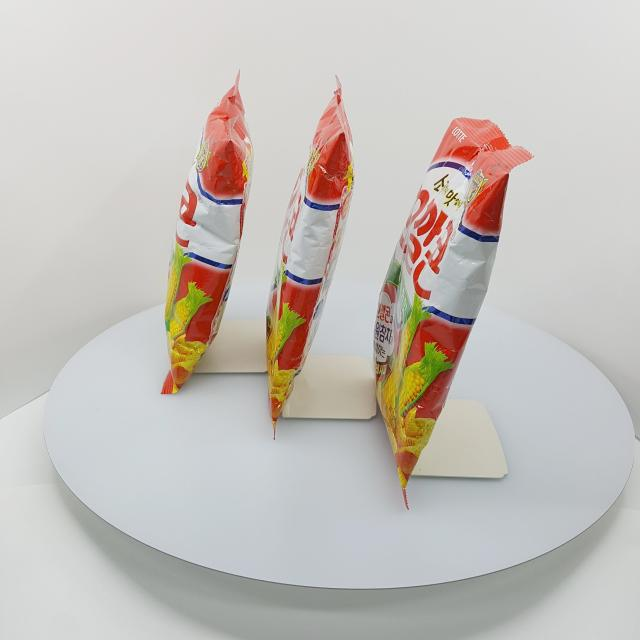-72G: (374, 118, 536, 511), (267, 75, 356, 440), (161, 70, 255, 395)
